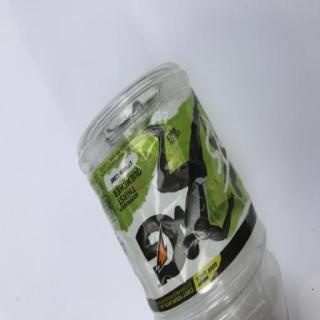Plastic-bottle: (77, 60, 292, 320)
